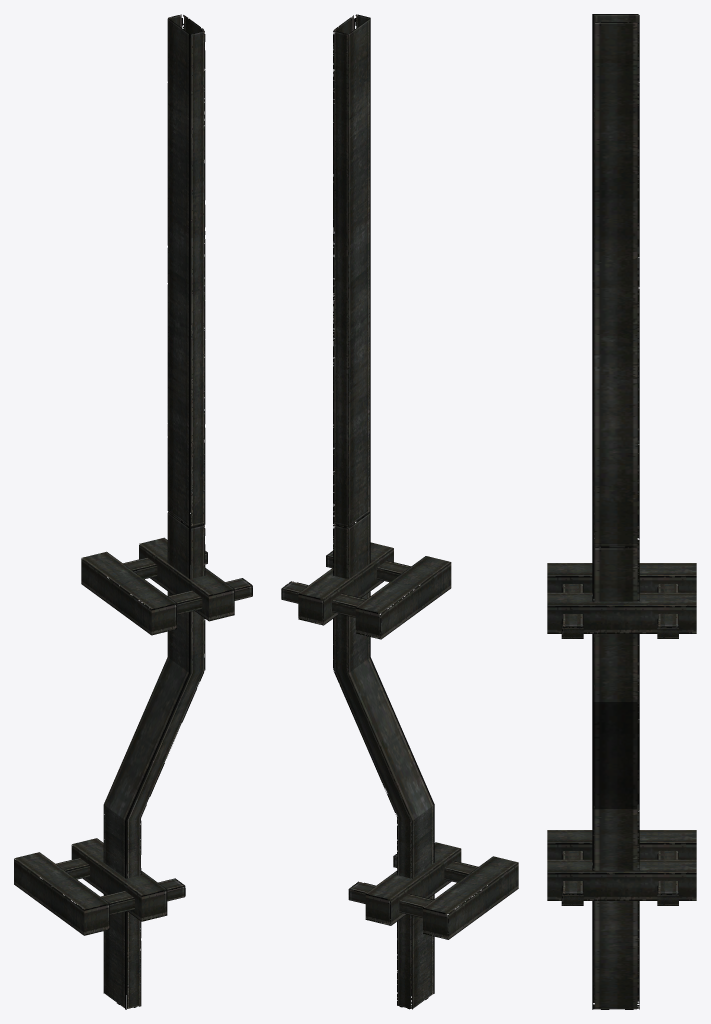
File: tesla_dressing_generic_frame_03.dae
3 views of the same model, side by side, from view 1: azimuth 30°, elevation 25°; view 2: azimuth 150°, elevation 25°; view 3: azimuth 270°, elevation 25° (orthographic). The views are drawn at different scales.
Visible parts, largest first — view 1: polySurface148; view 2: polySurface148; view 3: polySurface148.
Boxes of the visible parts, left/top/right/bottom form: polySurface148: left=14, top=14, right=252, bottom=1009; polySurface148: left=281, top=14, right=518, bottom=1009; polySurface148: left=547, top=14, right=696, bottom=1009.
Size of the model in its own units: 34.1 by 178 by 23.61.
